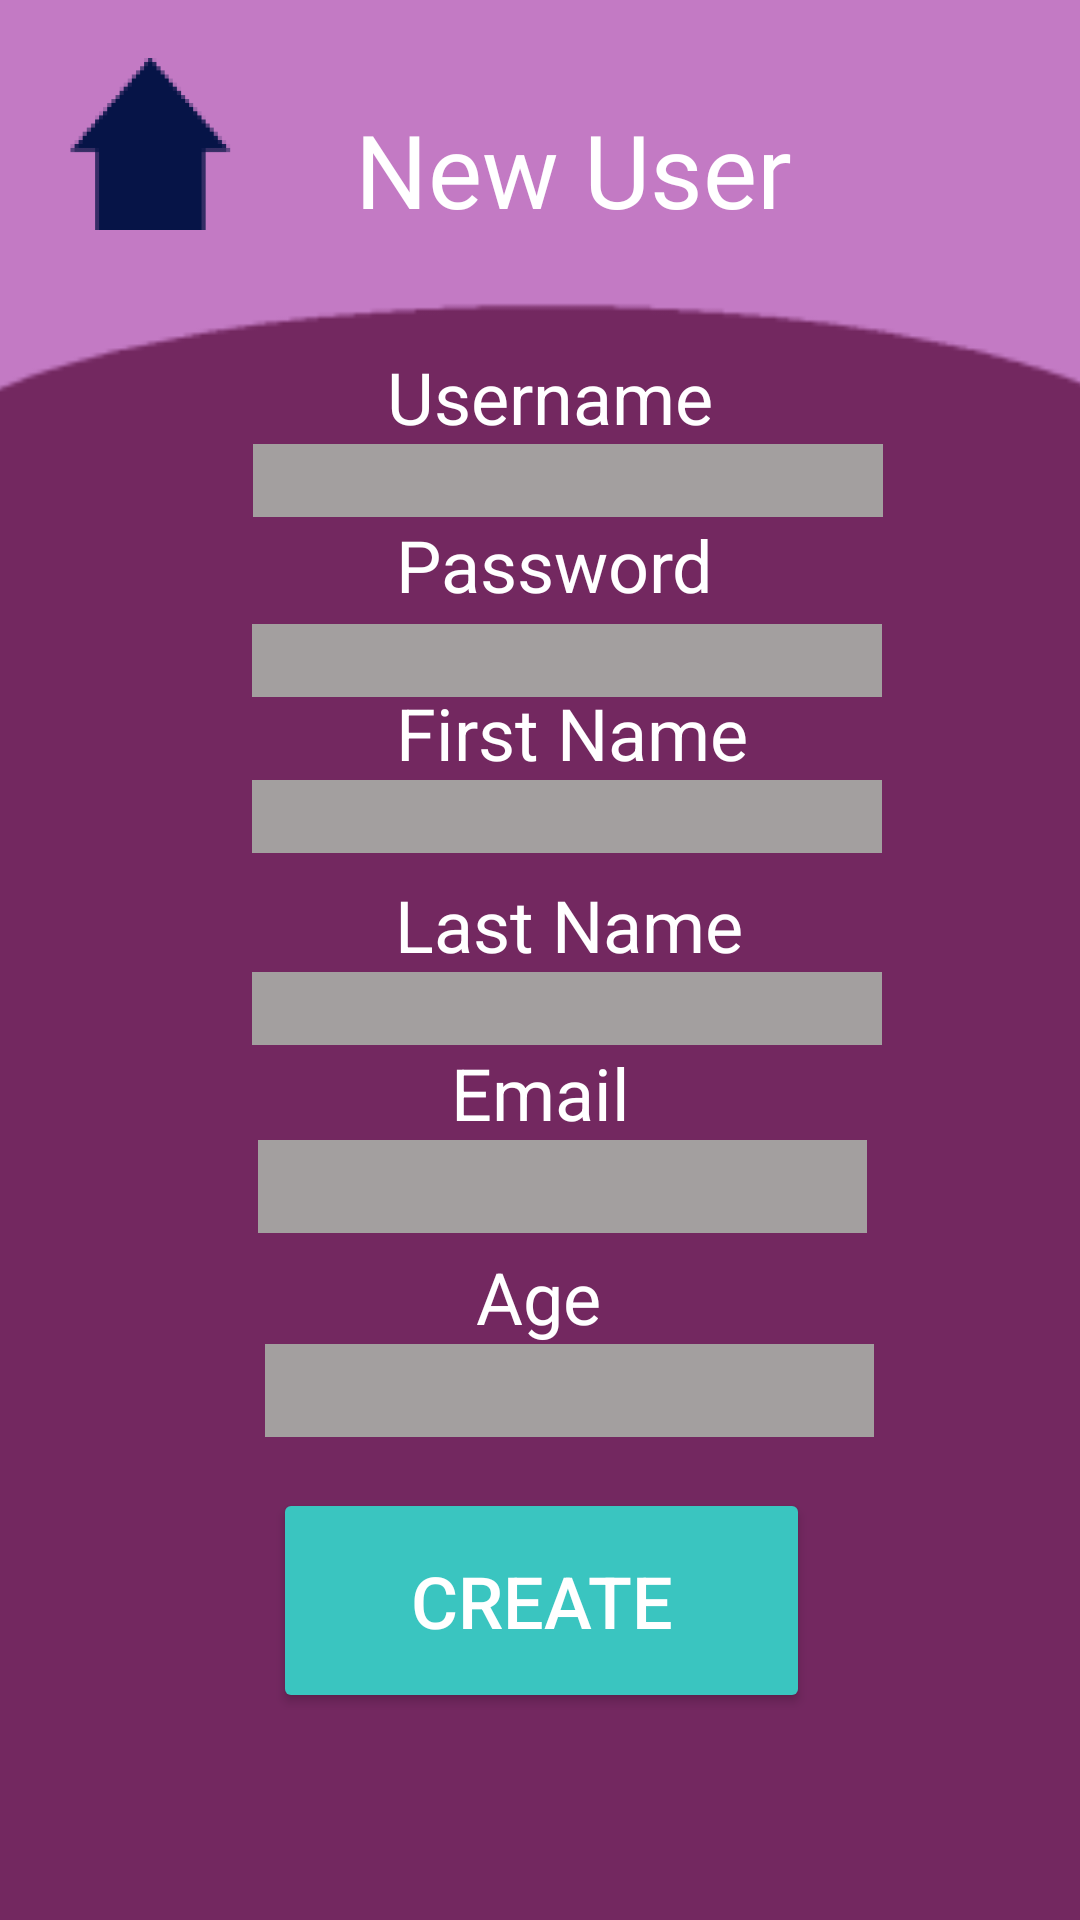

Icon click points for this 1080×1920 phone screenshot, format [x,y]:
homehouse: [150,144]
